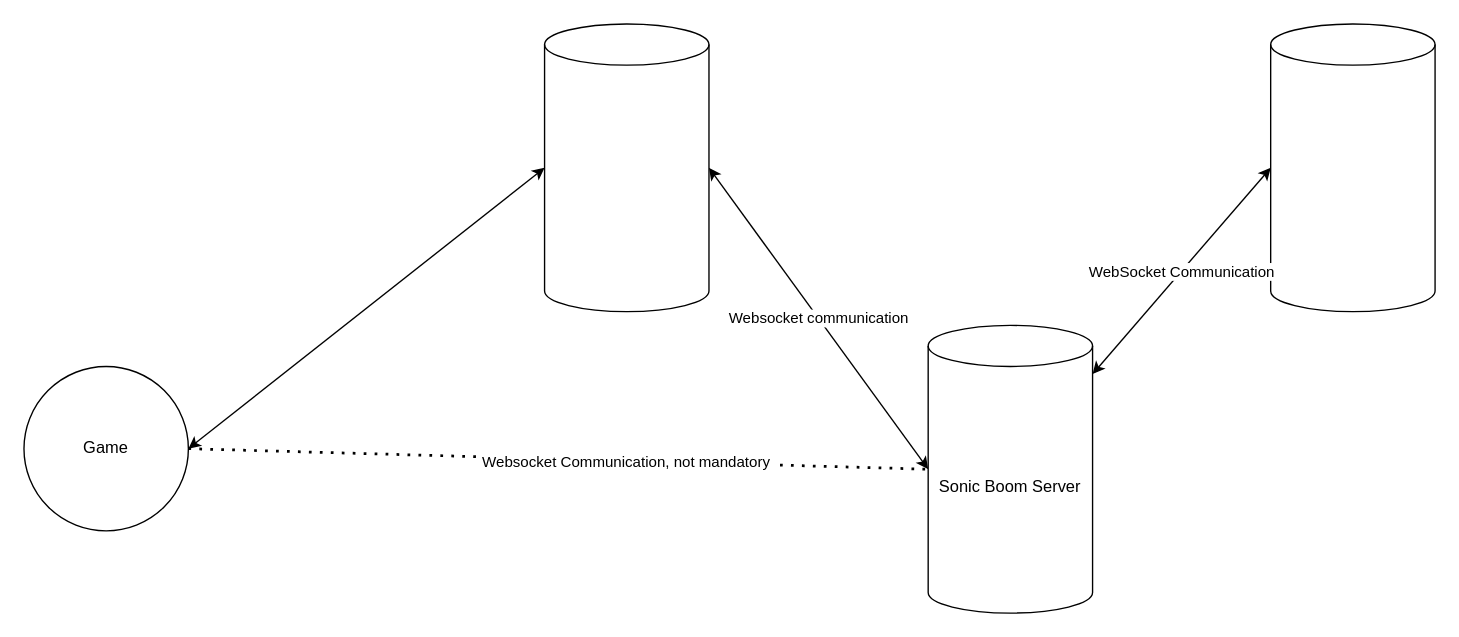
The diagram is 1459 pixels wide and 637 high, and some of its shapes have lost their labels. The box of each missing label's shape, as (x1, y1, x2, y2) in pixels:
Fantom Node: (1269, 23, 1435, 312)
Game Server: (543, 23, 709, 312)
